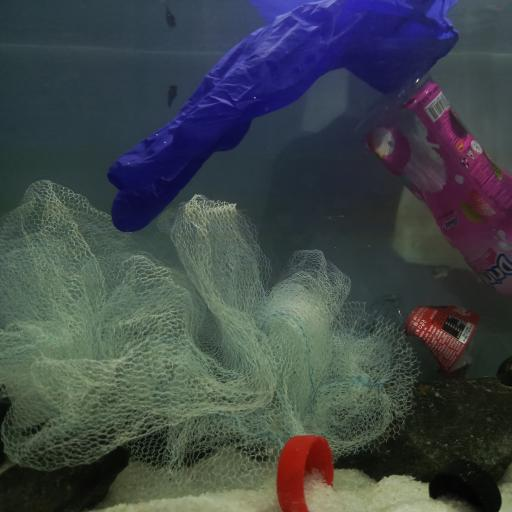bottle_cap: (277, 431, 333, 512), (428, 455, 501, 512)
glove: (106, 0, 459, 230)
net: (2, 176, 420, 491)
plastic_bottle: (352, 70, 512, 298), (374, 298, 509, 378)
